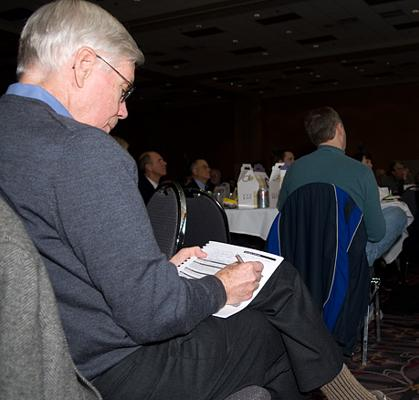person: (2, 4, 388, 400)
